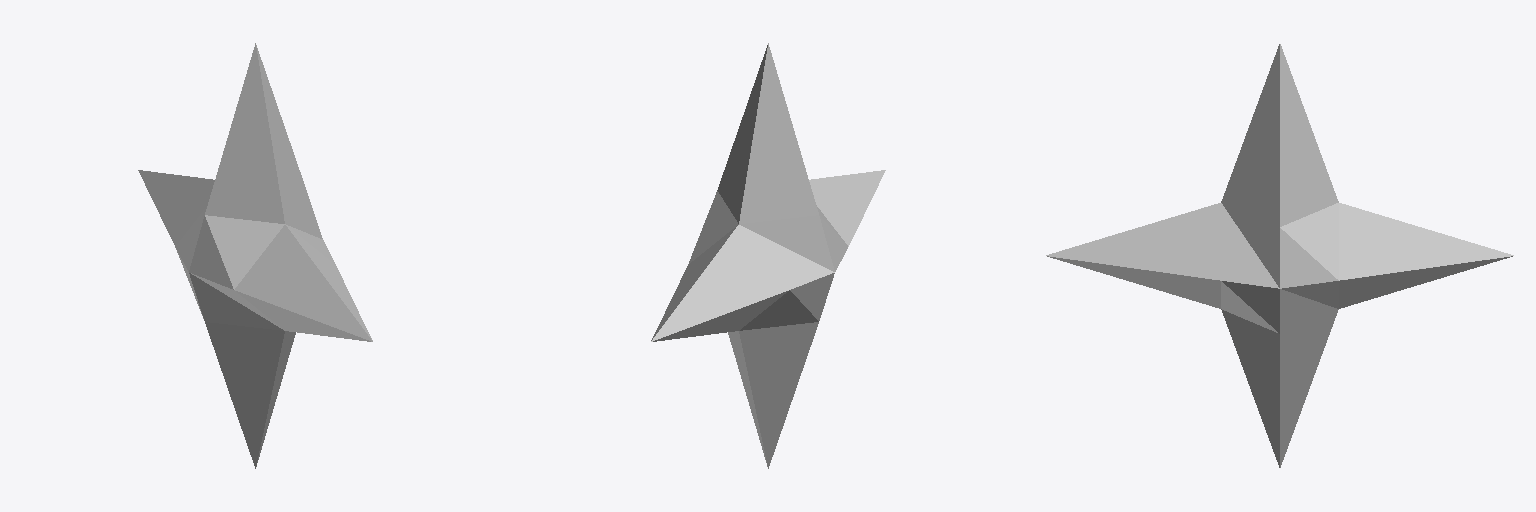
File: 4pointstar_24.obj
The picture shows the model from 3 angles: view 1: azimuth 30°, elevation 25°; view 2: azimuth 150°, elevation 25°; view 3: azimuth 270°, elevation 25°; orthographic projection.
Visible parts, largest first — view 1: 4pointstar_24; view 2: 4pointstar_24; view 3: 4pointstar_24.
Part boxes in pixels (x1,y1,x2,y2): 4pointstar_24: (138, 43, 372, 468); 4pointstar_24: (651, 43, 885, 468); 4pointstar_24: (1046, 44, 1513, 467).
Size of the model in its own units: 2.63 by 8 by 8.